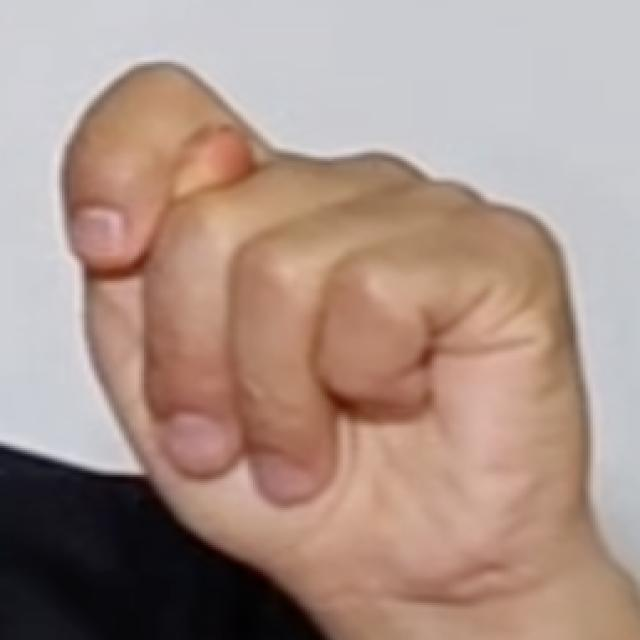T: (55, 52, 604, 607)
